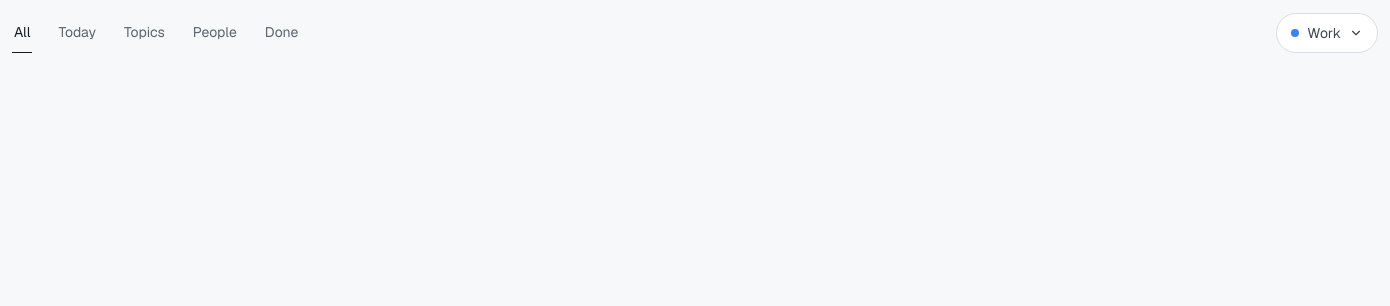
Test: Navigation › Counts › shows open counts per area in the area menu
Step 1. Click the button "Work" → (1327, 32), box x1=1276 y1=12 x2=1378 y2=52
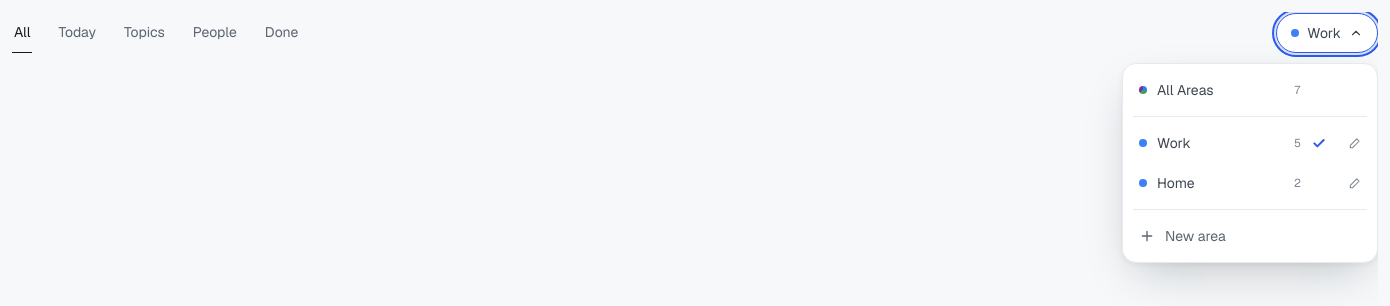
Expected: the menu item with aria-label "All Areas, 7 open" is shown, x1=1129 y1=70 x2=1337 y2=110
Expected: the menu item with aria-label "Home, 2 open" is shown, x1=1129 y1=162 x2=1337 y2=202
